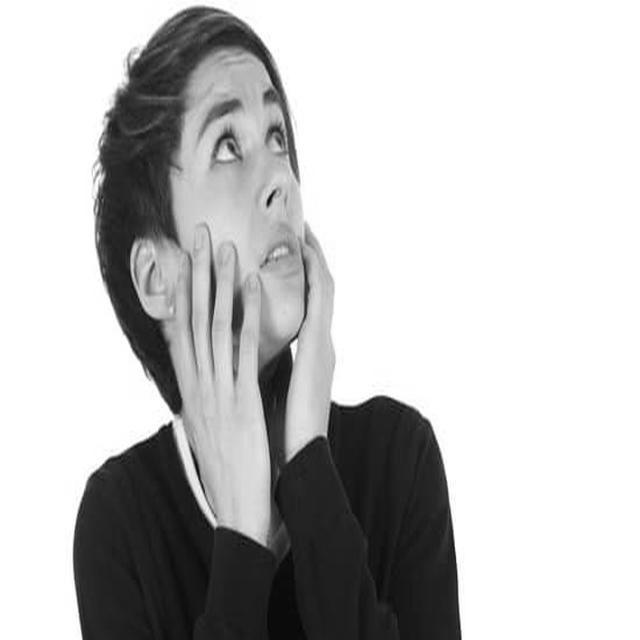Fear: (177, 49, 308, 348)
